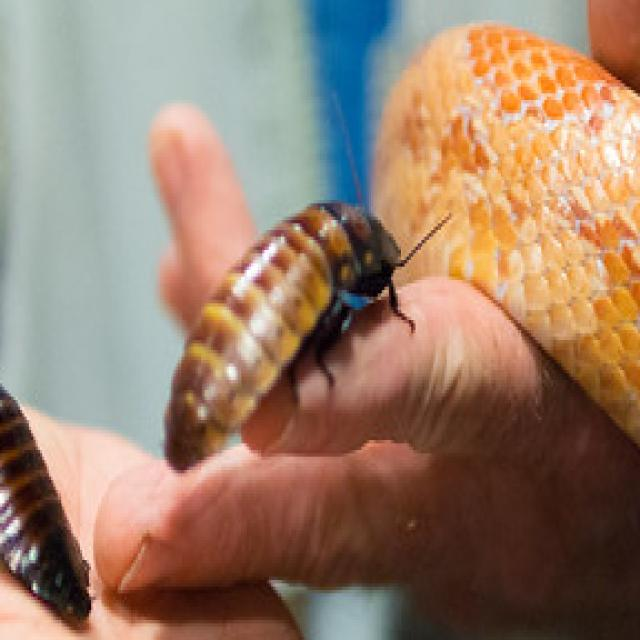snake: (402, 0, 640, 640)
